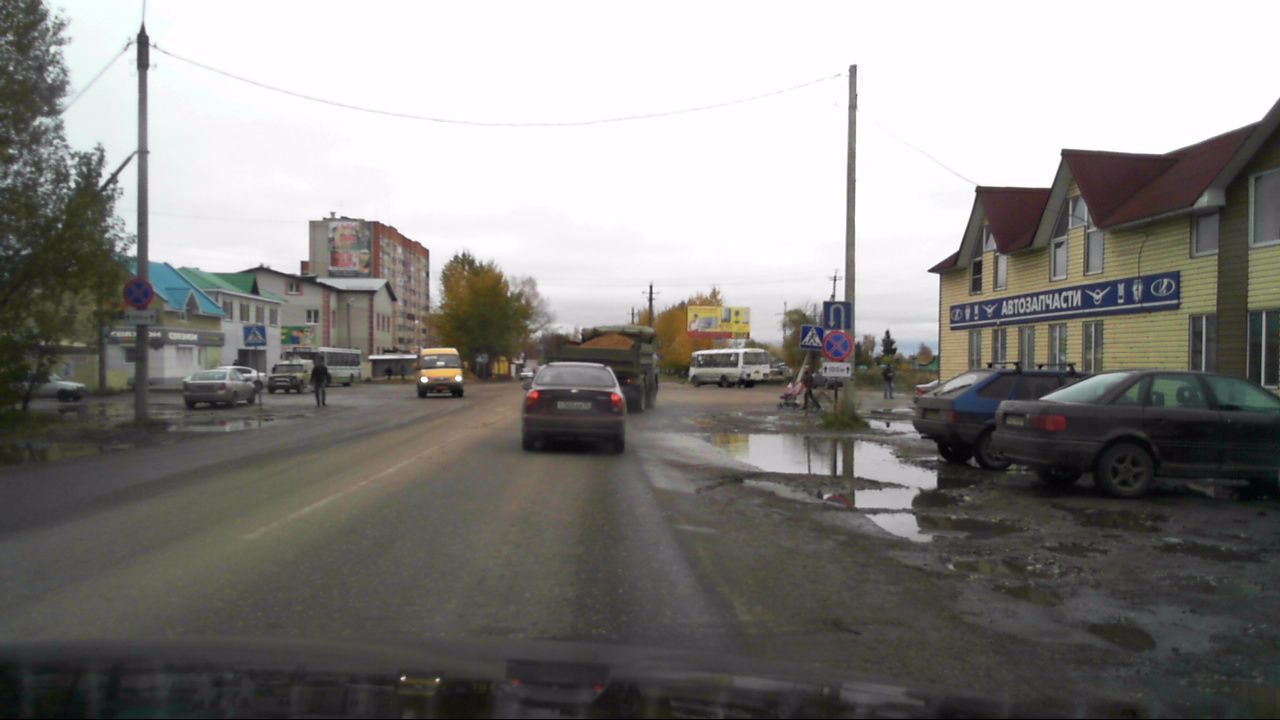No Parking: (124, 278, 154, 311)
U-turn: (824, 302, 850, 329)
